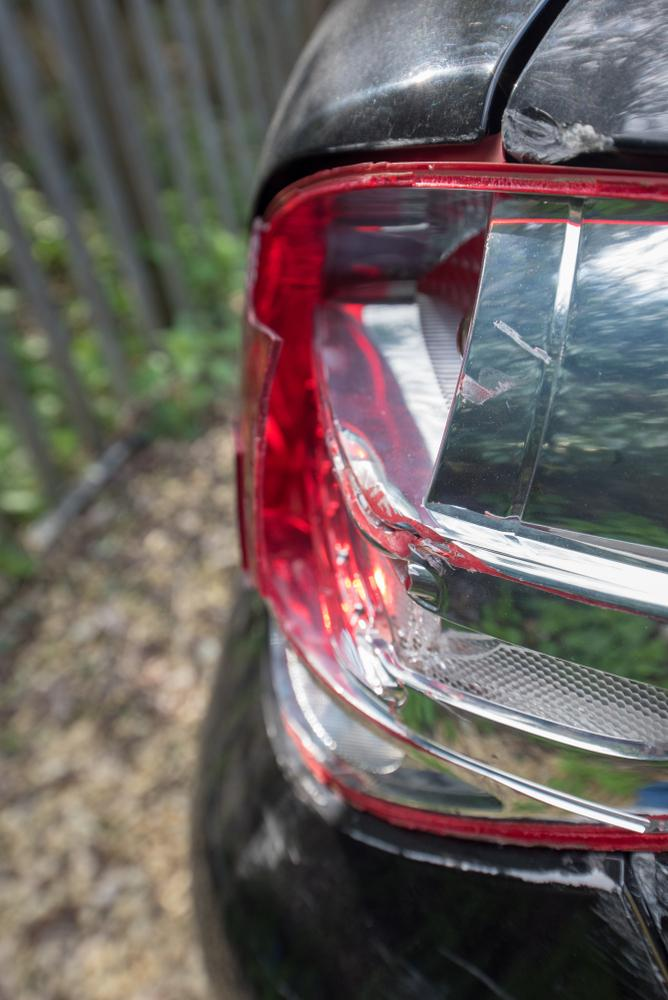dent: (505, 54, 639, 158)
lamp broken: (235, 157, 668, 849)
scratch: (575, 856, 668, 1000)
